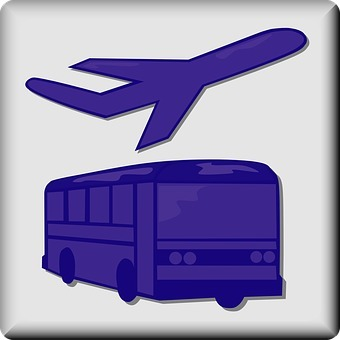aeroplane: (13, 9, 322, 156)
bus: (30, 161, 296, 325)
